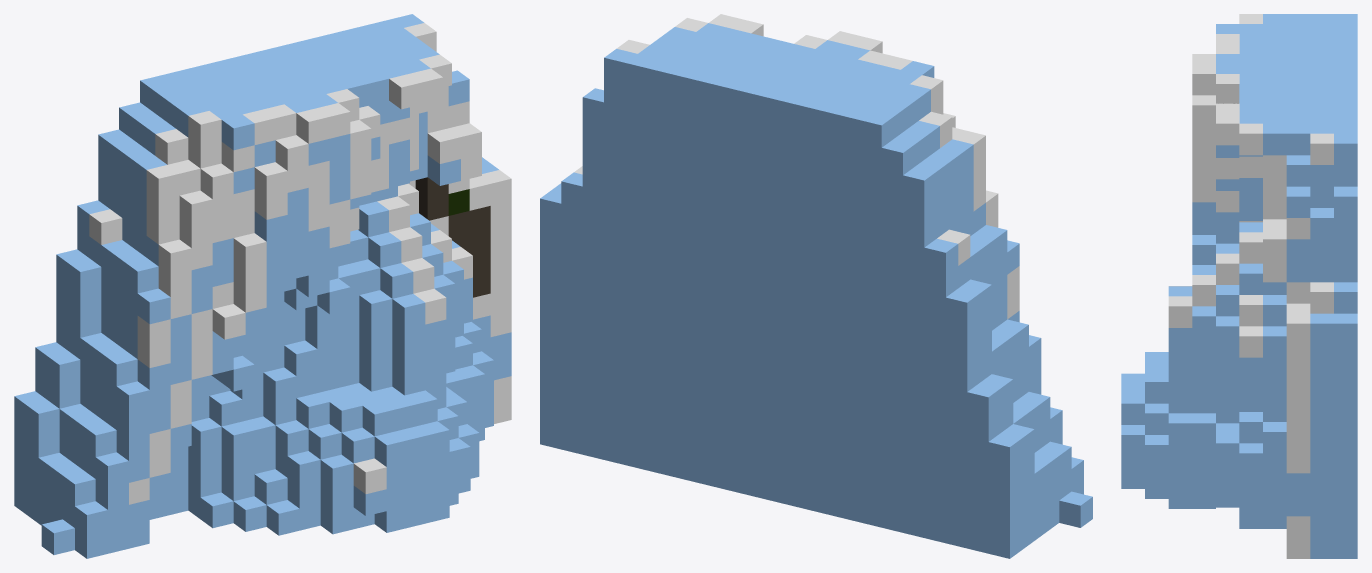
The model's file is snow10.obj.
The picture shows the model from 3 angles, left to right: view 1: azimuth 30°, elevation 25°; view 2: azimuth 150°, elevation 25°; view 3: azimuth 270°, elevation 25°; orthographic projection. The views are drawn at different scales.
Size of the model in its own units: 2.3 by 1.8 by 1.
1 material, 1 textured.
